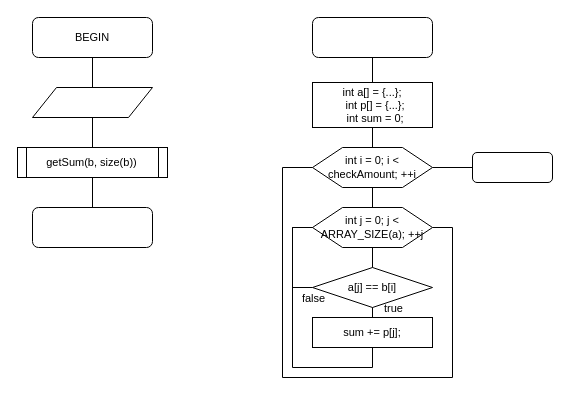
The diagram is 570 pixels wide and 396 high, and some of its shapes have lost their labels. The centre of each missing label's shape, as x and y in pixels:
b[]: pixel 92 102
END: pixel 92 227
getSum(int[] b, int checkAmount): pixel 372 37
return sum: pixel 512 167
